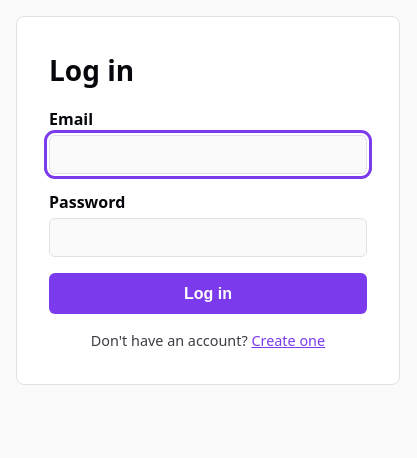
it: LoginPage › shows a generic incorrect-credentials message without distinguishing the cause
This screenshot has width=417, height=458.
Step 1. Type "me@example.com" into the field labelled "Email" → coordinates (208, 155), box [49, 135, 367, 174]
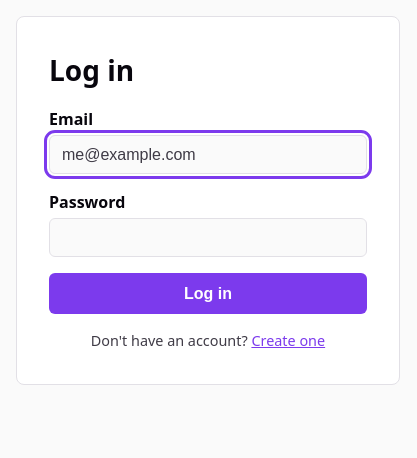
Step 2. Type "wrong" into the password field labelled "Password" → coordinates (208, 238), box [49, 218, 367, 257]
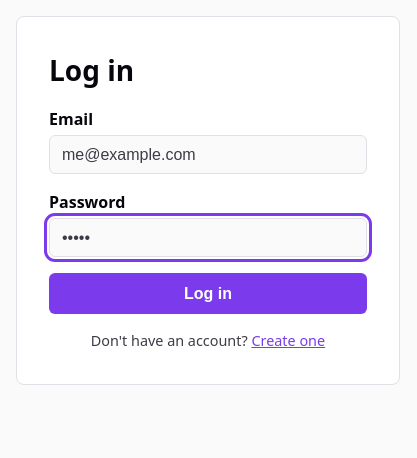
Step 3. Click the button "Log in" → coordinates (208, 294), box [49, 273, 367, 314]
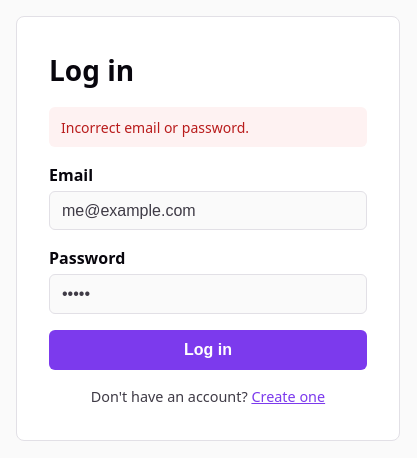
Check: the message reads "Incorrect email or password.", box [61, 118, 249, 137]
